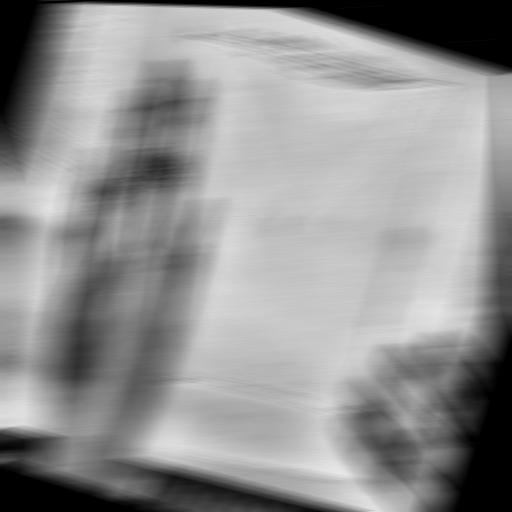bottom_left: (400, 472, 421, 485)
bottom_right: (5, 415, 29, 431)
envelop: (87, 4, 462, 451)
